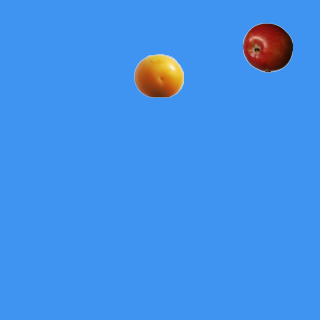Apple Braeburn: (242, 22, 292, 72)
Cherry Wax Yellow: (133, 50, 183, 100)
